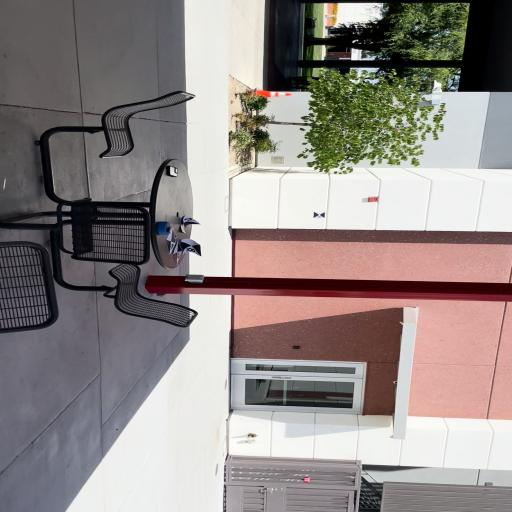target6: (313, 212, 325, 218)
